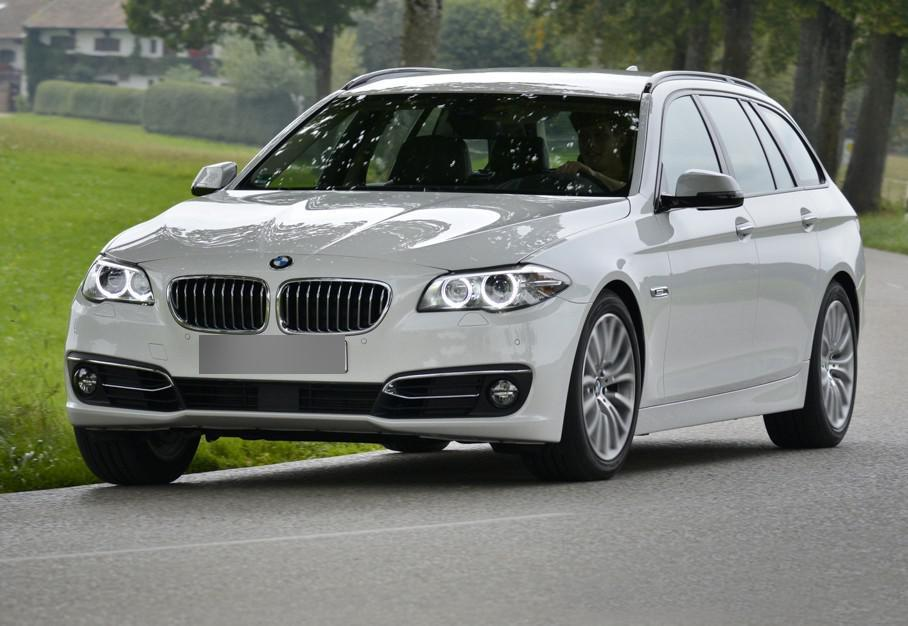Wagon: (63, 66, 868, 487)
